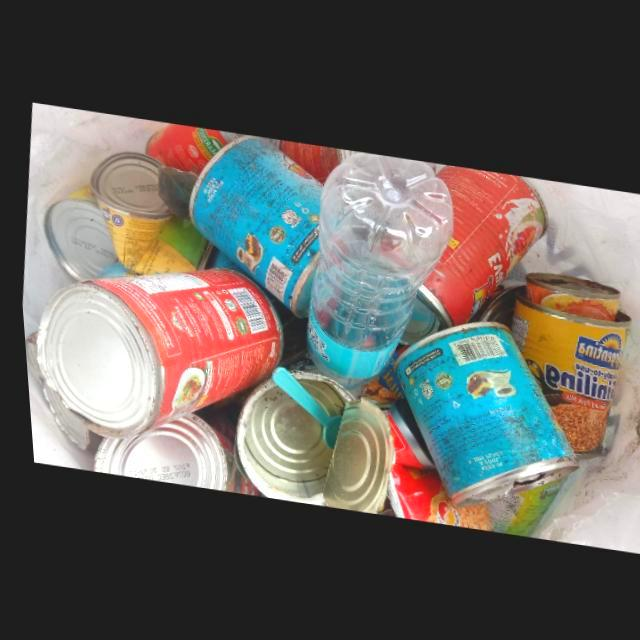aluminum: (30, 266, 277, 438), (386, 318, 572, 505), (394, 163, 545, 343), (185, 135, 320, 317), (502, 268, 627, 451), (229, 365, 384, 512), (87, 152, 208, 274), (86, 413, 251, 496), (40, 189, 114, 281)
plastic_bottle: (301, 150, 450, 384)
